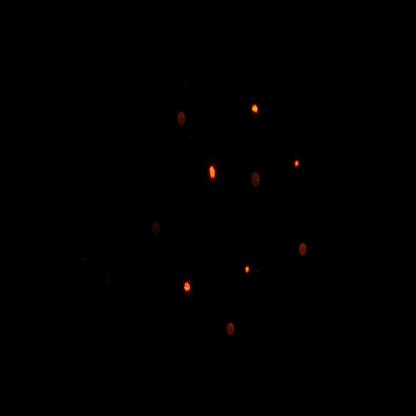PS: (217, 307, 244, 354), (143, 209, 170, 252), (294, 233, 315, 274), (171, 100, 192, 136), (247, 160, 266, 196)
PVC: (234, 249, 262, 293), (174, 269, 202, 308), (243, 91, 269, 129), (200, 154, 228, 189), (289, 147, 306, 181)
